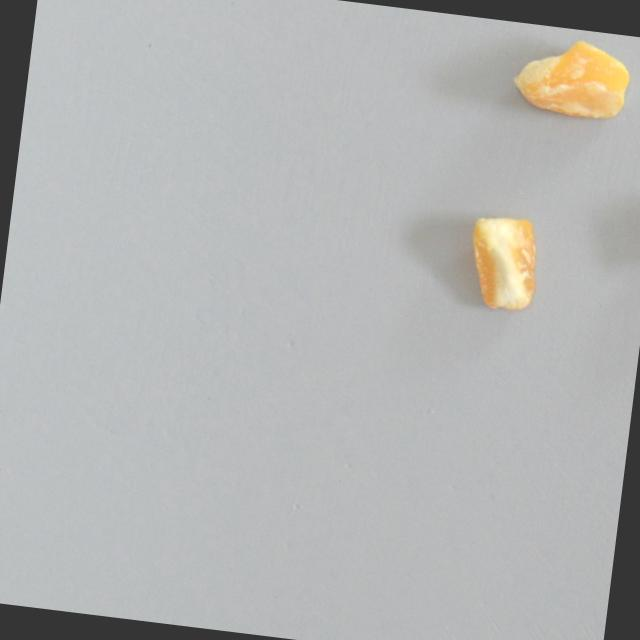pelicula: (508, 29, 634, 122), (461, 212, 542, 314)
